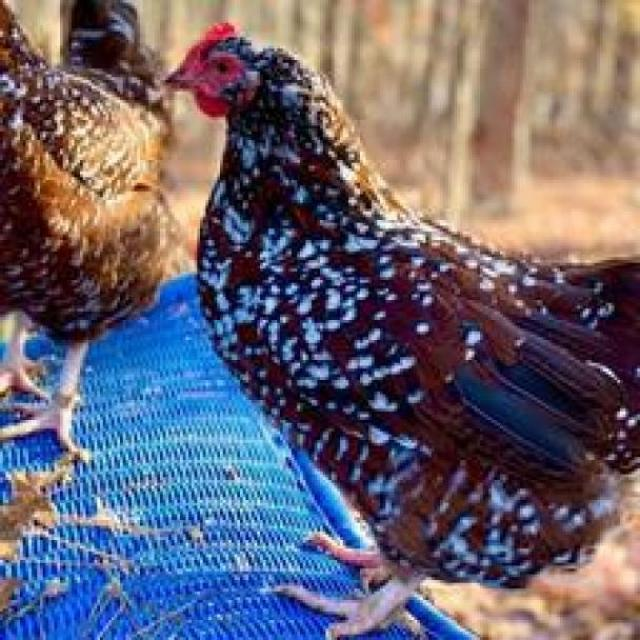Chicken: (147, 4, 640, 640)
